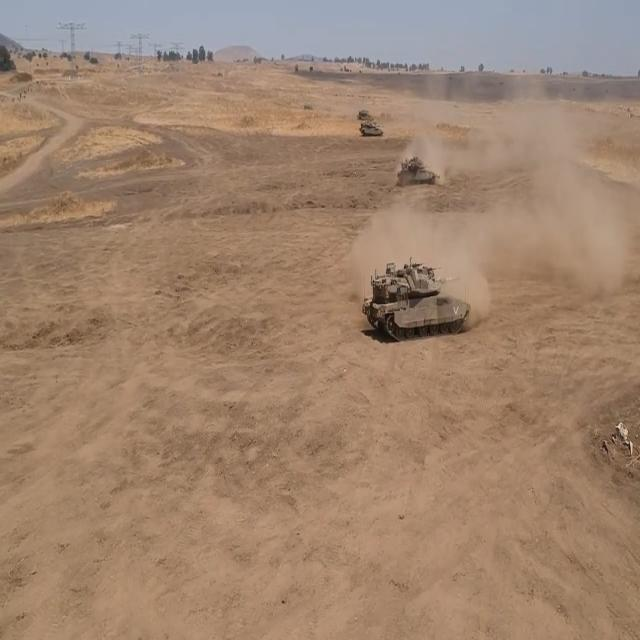tank: (364, 252, 470, 343), (394, 145, 441, 192), (359, 120, 381, 140), (358, 102, 374, 122)
